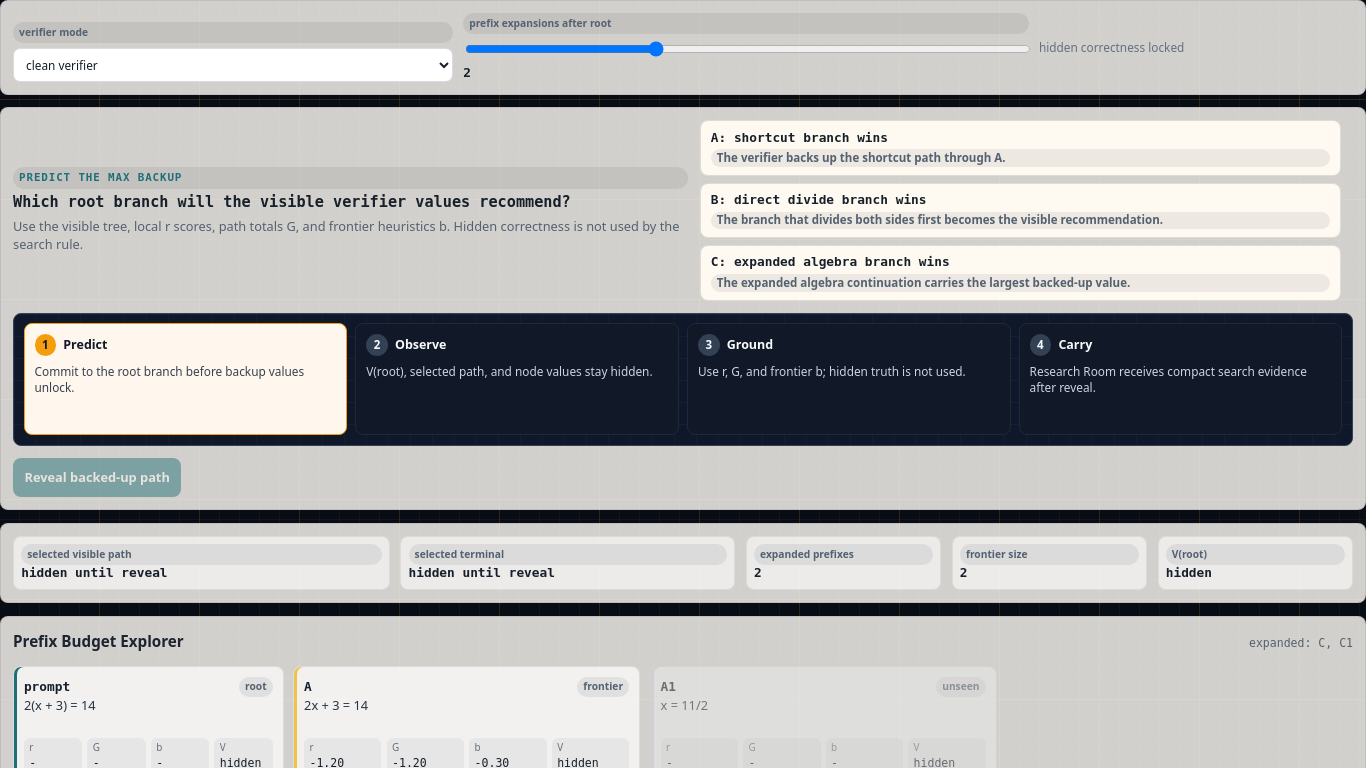
Test: TreeSearchReasoningViz prediction reveal › reveals noisy verifier false-positive amplification only after correctness is toggled
Select "noisy verifier" in the dropdown labelled "verifier mode" at (233,65), box [13,48,453,82]
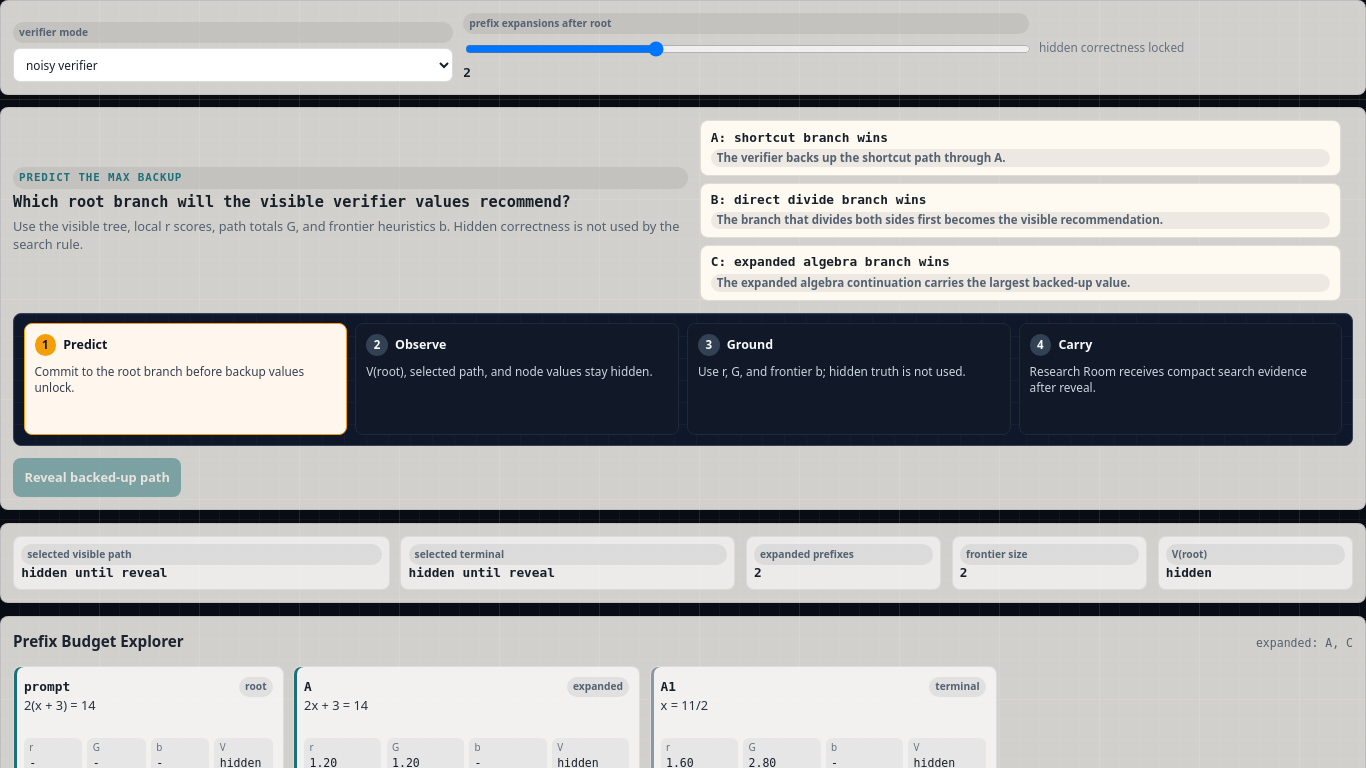
Click the button "A: shortcut branch wins" at (1020,148), box [700,120,1341,176]
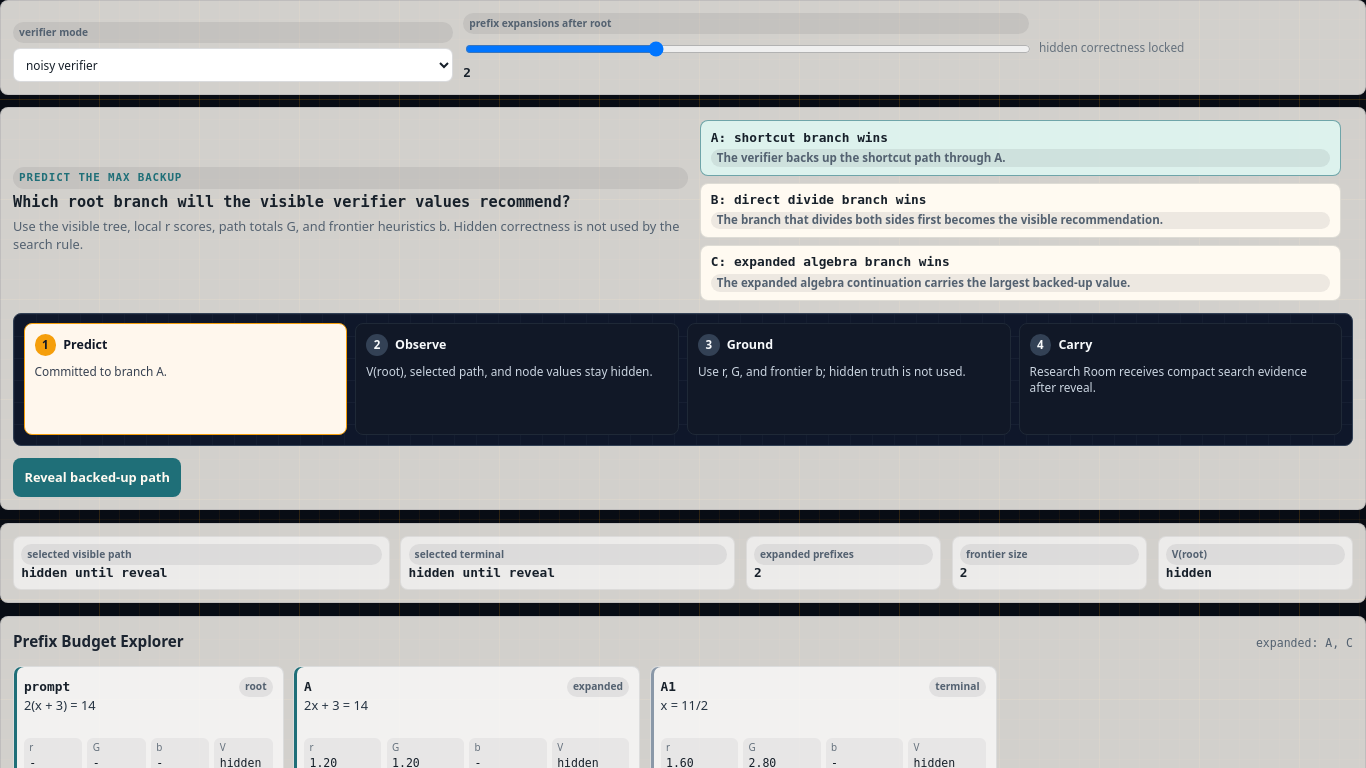
Click the button "Reveal backed-up path" at (97,478), box [13,458,181,497]
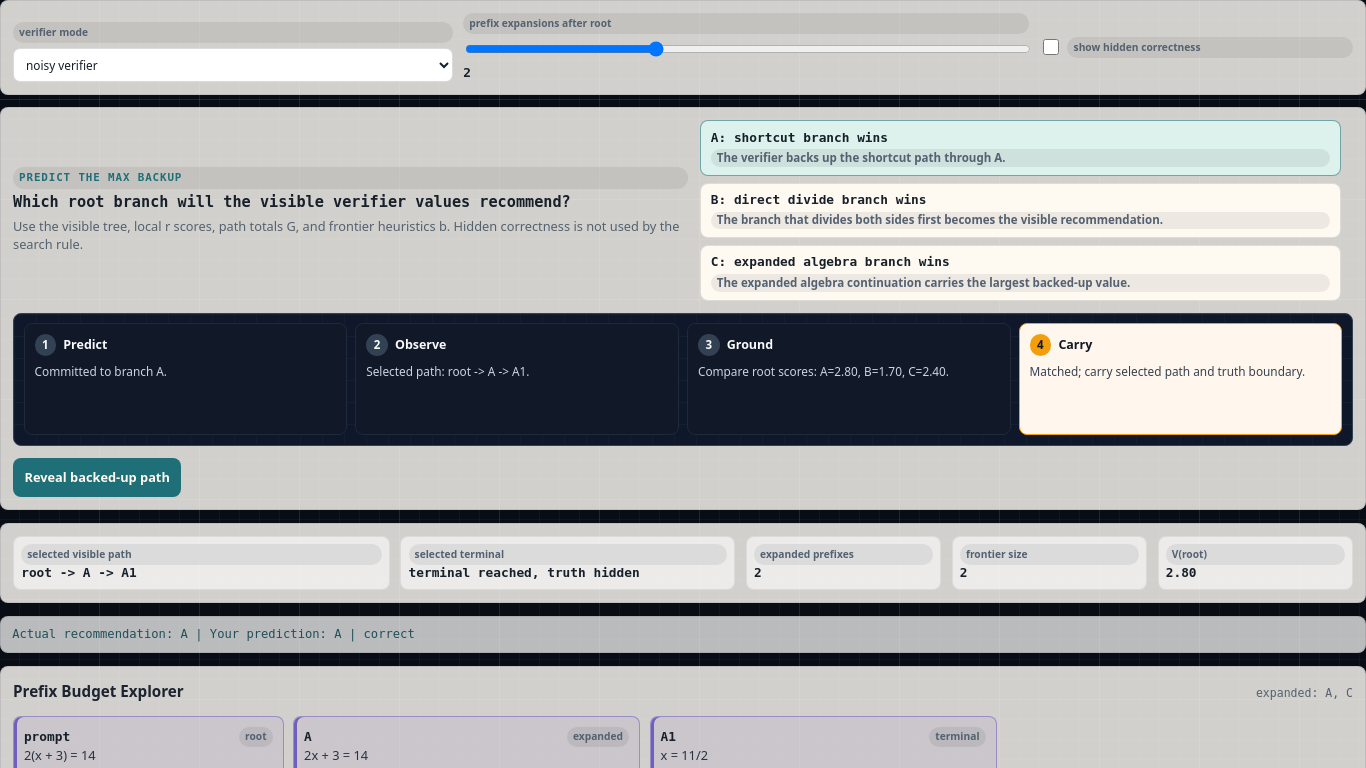
Expected: the text "hidden truth: wrong" is not shown
Expected: the text "root -> A -> A1" is shown, [21,565,137,580]
Expected: the text with class "result" shows "Actual recommendation: A", [0,616,1365,653]
Click the checkbox labelled "show hidden correctness" at (1051,47), box [1043,39,1059,55]
(page scrolled)
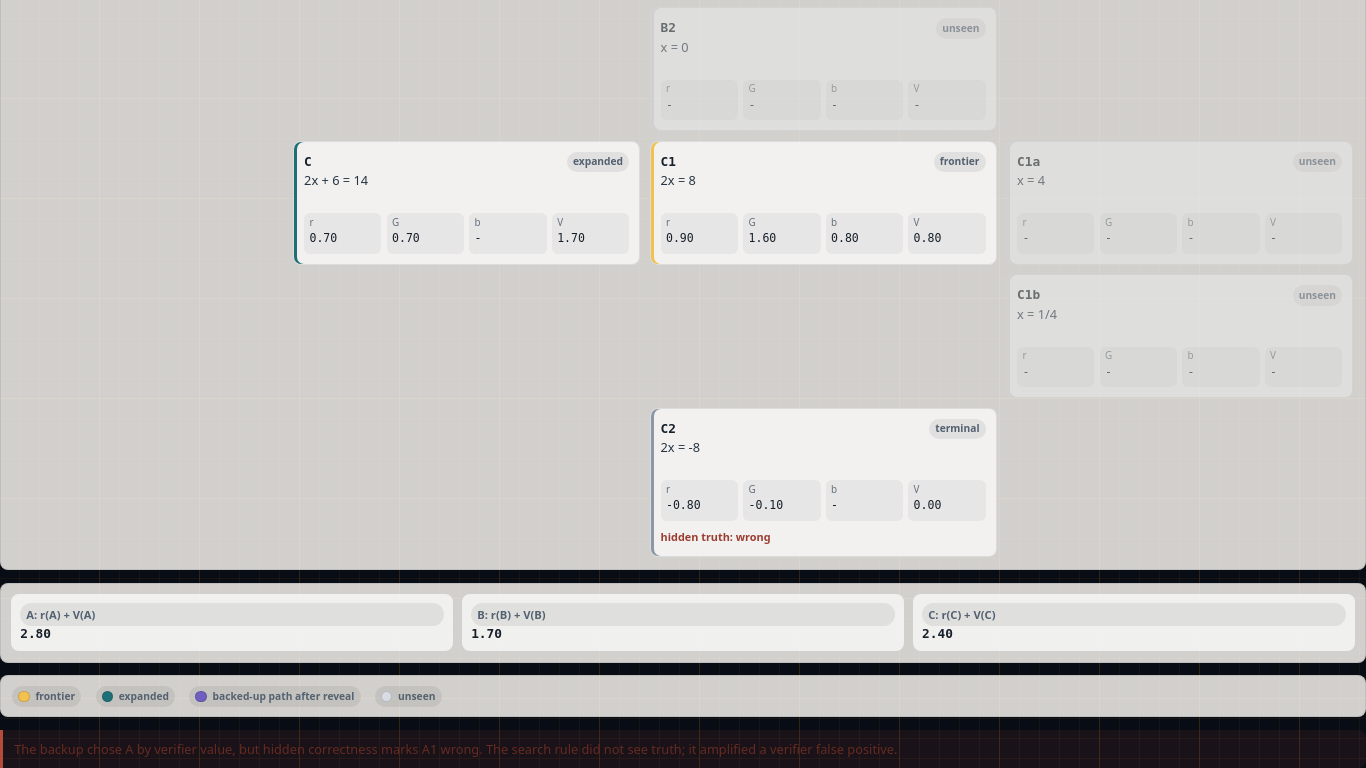
Expected: the text "amplified a verifier false positive" is shown, [14,740,898,758]
